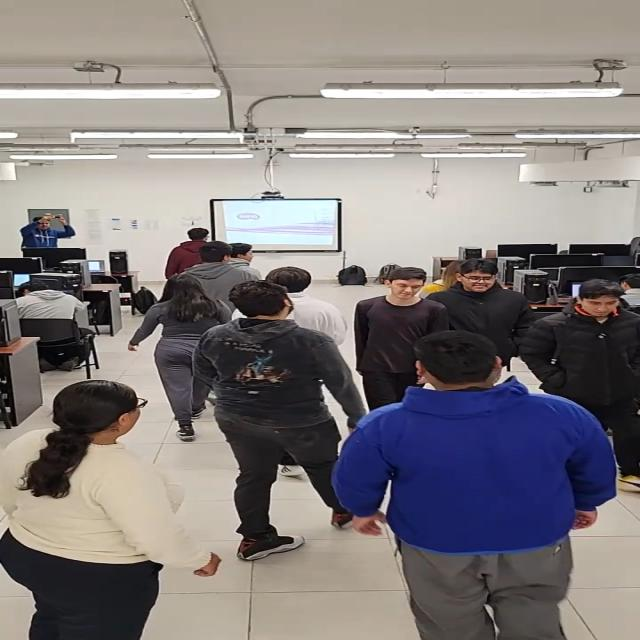Persona: (363, 329, 603, 640), (12, 374, 198, 640), (210, 284, 356, 533), (544, 276, 634, 420), (124, 272, 224, 367), (451, 253, 532, 337), (377, 272, 430, 344), (195, 242, 251, 291), (22, 209, 84, 253), (177, 224, 208, 260)
